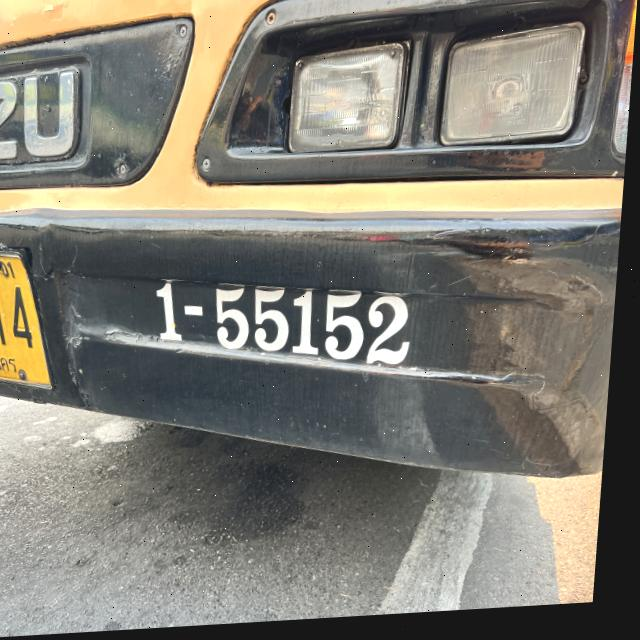BMTA-bus: (0, 0, 640, 532)
